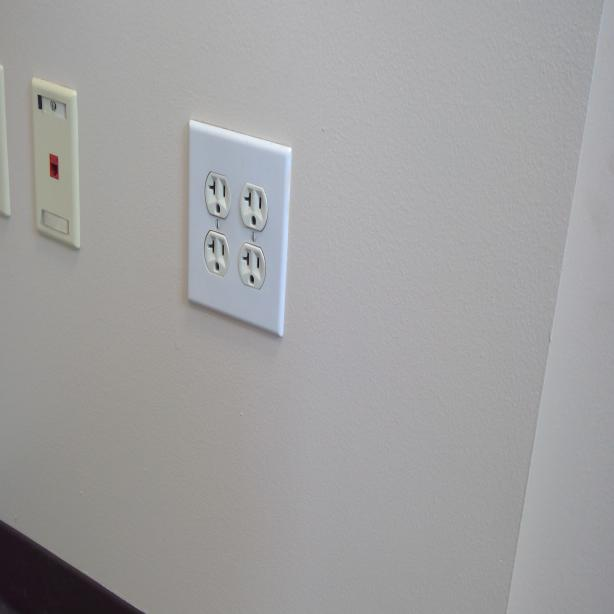typeb: (201, 226, 231, 278), (240, 177, 268, 231), (204, 170, 234, 220), (238, 243, 266, 292)
